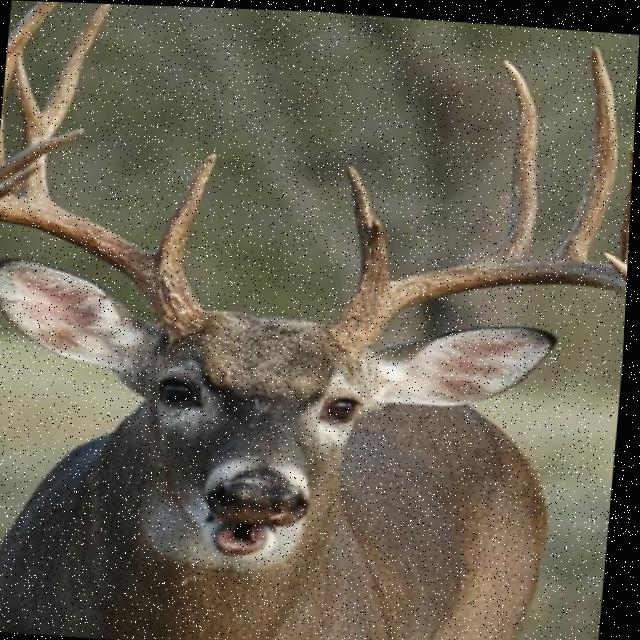L-F: (0, 162, 210, 345)
L-G1: (157, 151, 218, 266)
R-F: (331, 246, 630, 349)
R-G1: (345, 161, 391, 291)
R-G2: (491, 56, 540, 254)
R-G3: (550, 42, 620, 255)
R-G4: (623, 141, 635, 259)
